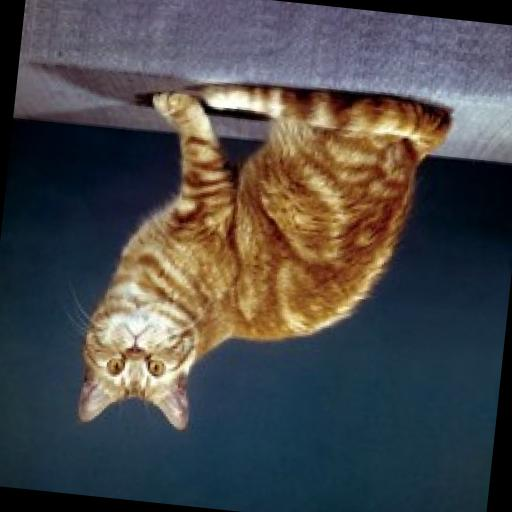cat: (55, 54, 468, 465)
